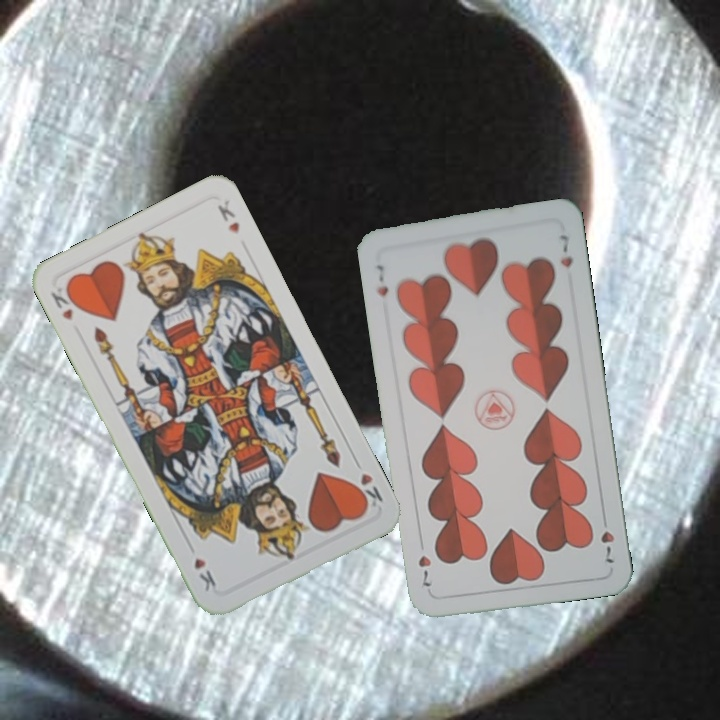H7: (596, 510, 617, 566), (372, 260, 391, 299)
HK: (350, 468, 386, 514), (46, 280, 82, 324)
